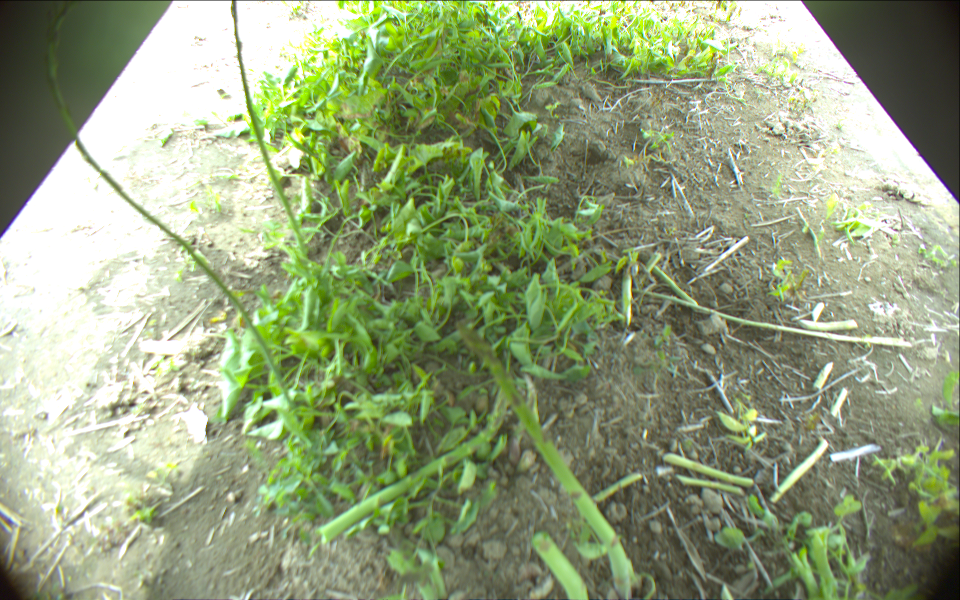aspa: (44, 1, 299, 430), (457, 322, 638, 600), (315, 382, 510, 547), (227, 1, 311, 259), (627, 287, 908, 350), (527, 530, 592, 600), (620, 258, 633, 329)
